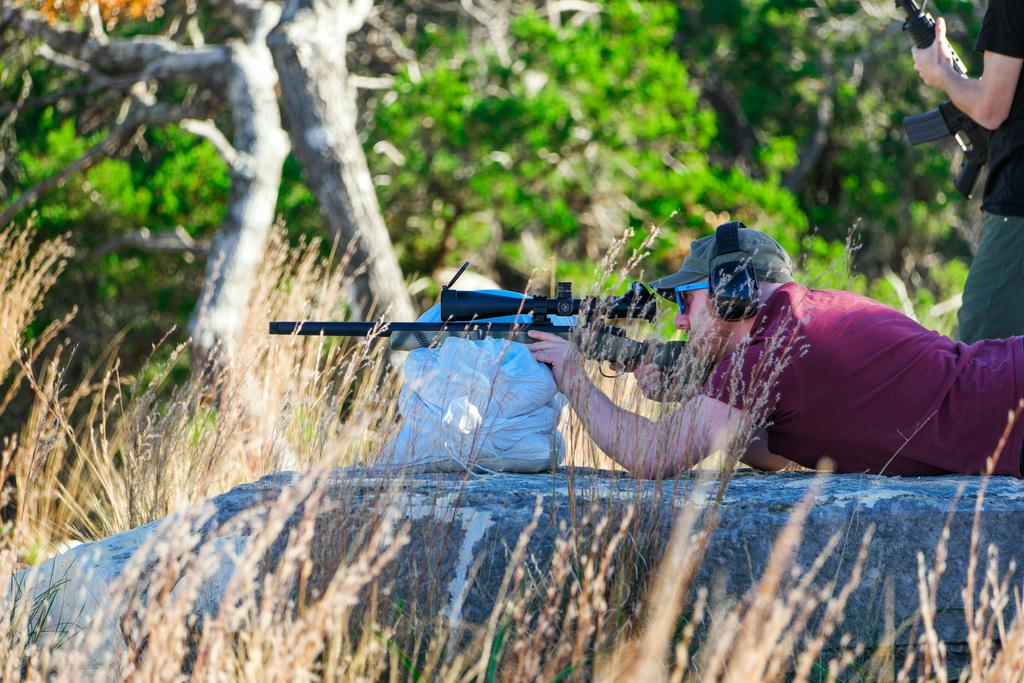non-violence: (528, 223, 1023, 476), (912, 0, 1023, 343)
weapon: (269, 254, 699, 380), (898, 0, 998, 204)
